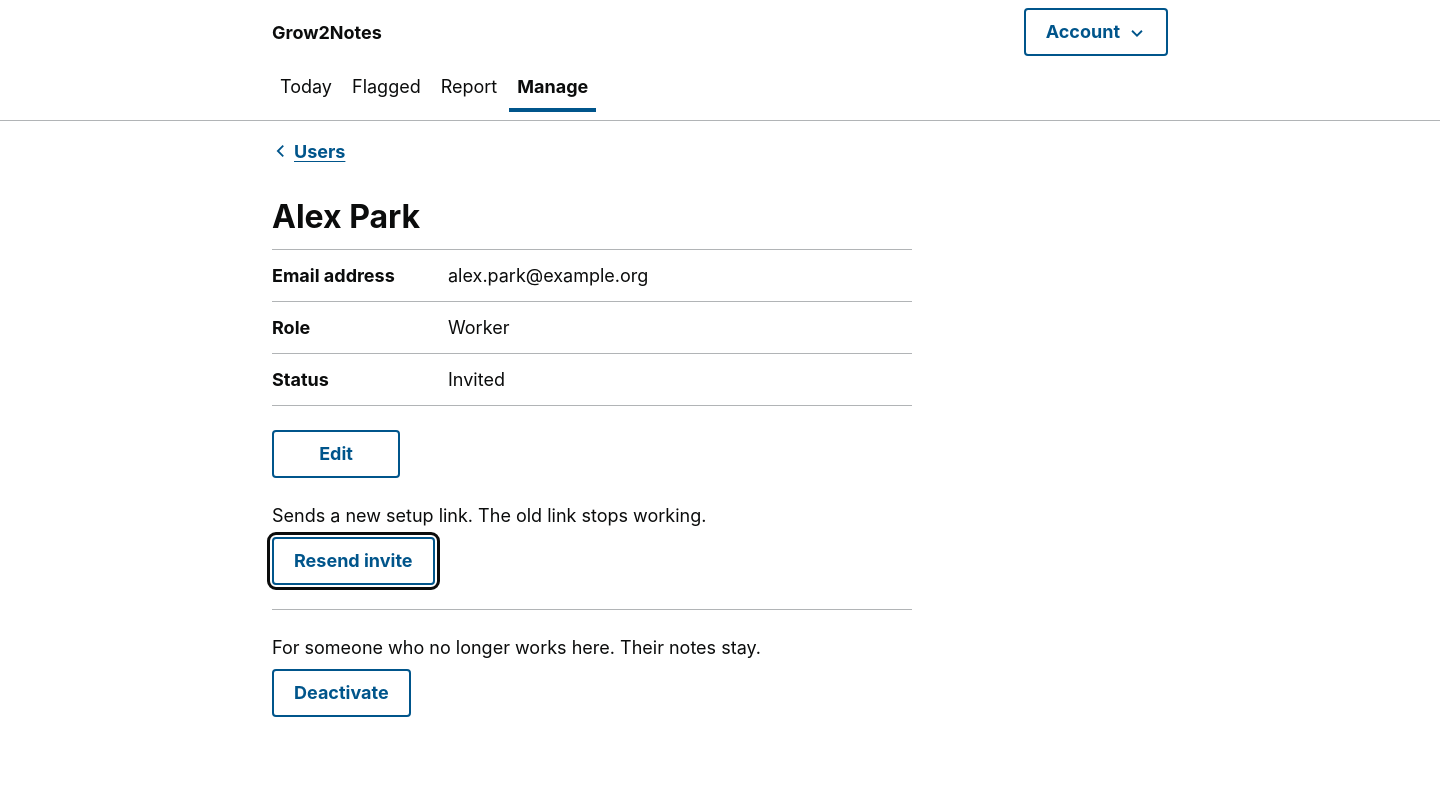
Test case: Resend invite › says what no connection means above the actions, keeps focus, and sends nothing by itself
What coordinates should you click on to do the following:
click the button "Resend invite"
I would click on:
 (353, 561)
Its box is left=272, top=537, right=434, bottom=585.
Wait 60002 ms
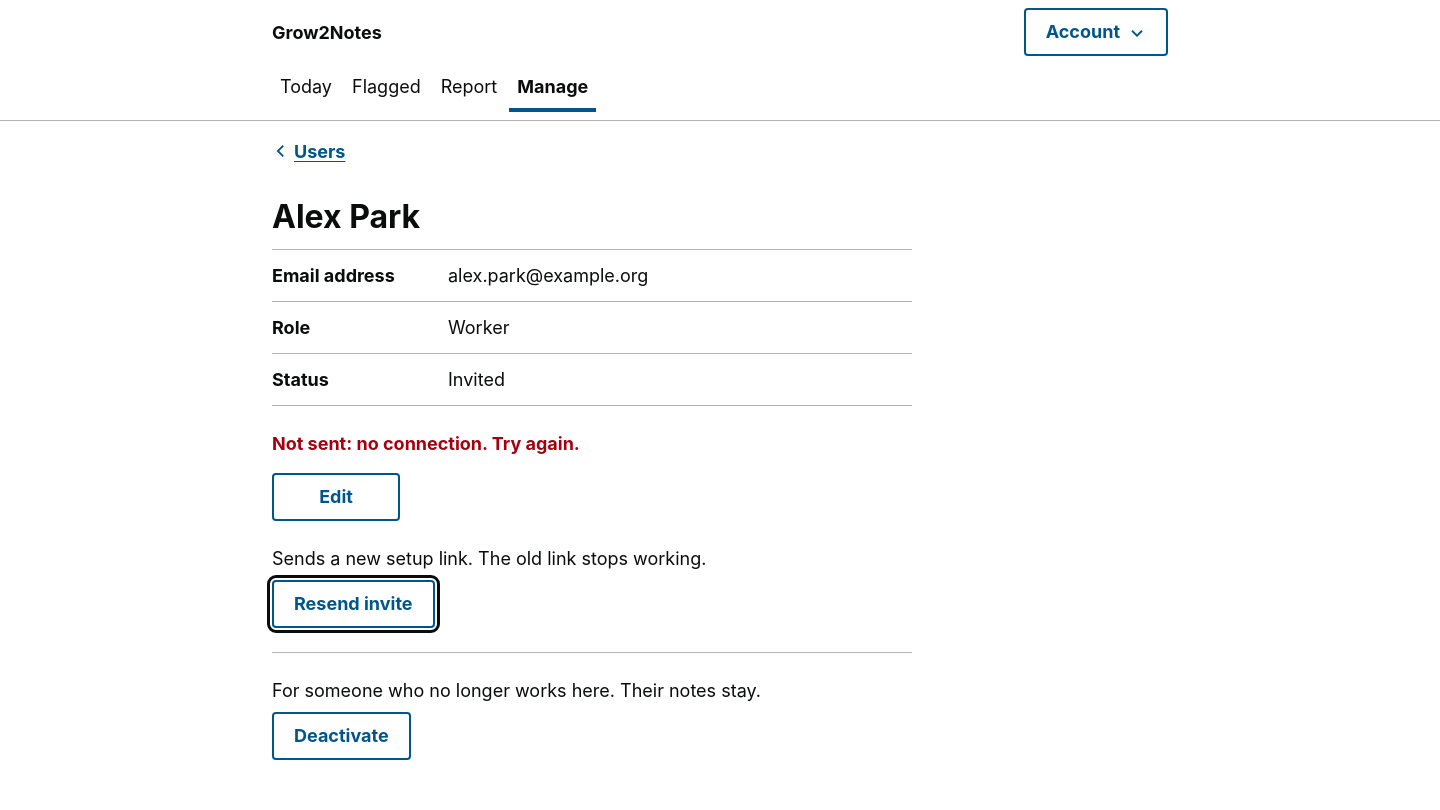
Check: the message reads "Not sent: no connection. Try again.", box left=272, top=433, right=580, bottom=454
